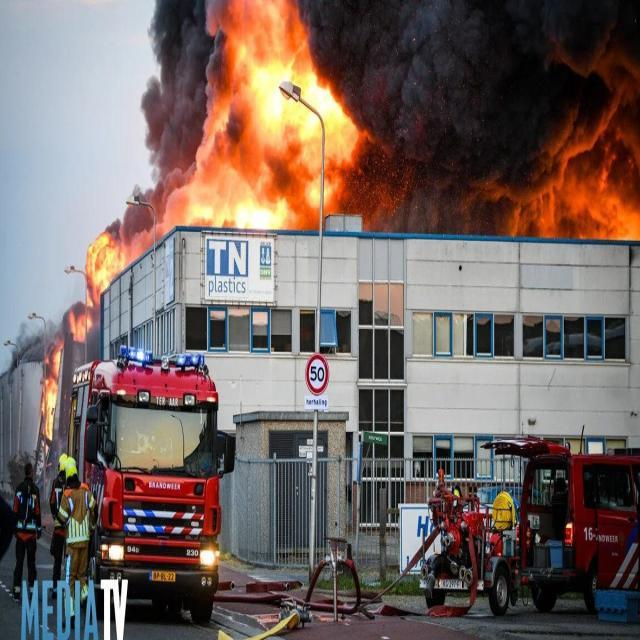Fire: (253, 61, 342, 133), (577, 167, 640, 241), (183, 198, 288, 228), (85, 230, 124, 308), (41, 343, 64, 441), (69, 311, 93, 345), (309, 183, 331, 208)
Smoke: (10, 0, 640, 370)
